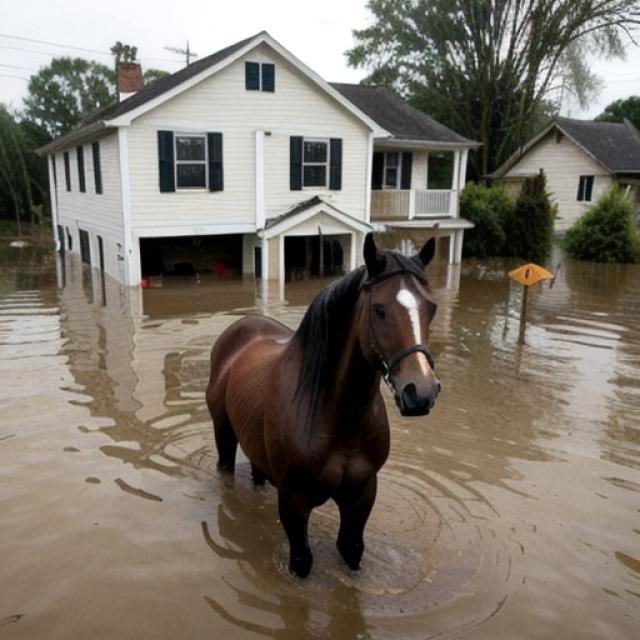horse: (181, 212, 450, 600)
